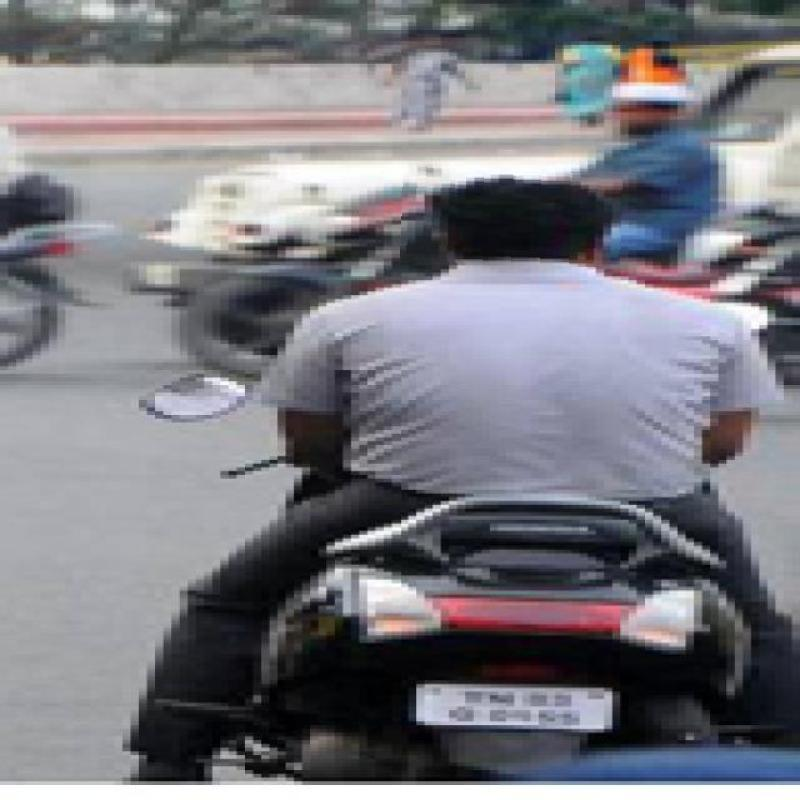nohelmet: (402, 169, 622, 267)
